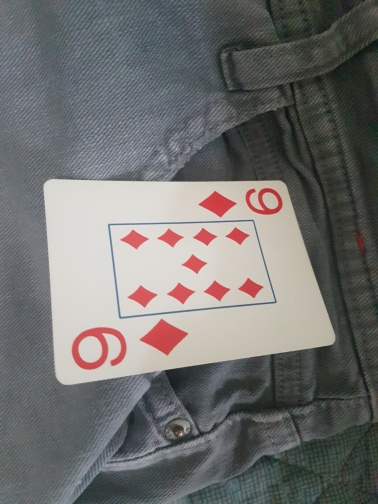nine: (42, 179, 335, 389)
